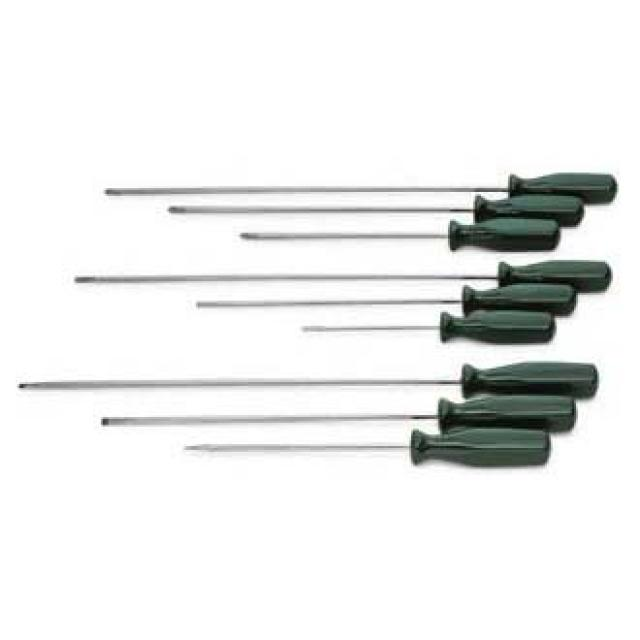screw driver: (12, 351, 610, 410), (91, 156, 624, 210), (57, 254, 639, 294), (170, 427, 576, 481), (235, 211, 571, 268), (152, 190, 598, 227), (291, 306, 556, 352)
